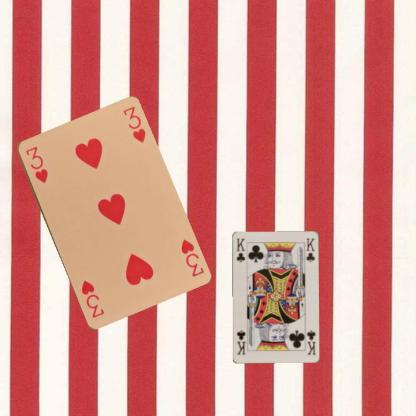3h: (177, 236, 205, 278), (23, 143, 49, 185)
Kc: (304, 328, 316, 356), (234, 236, 246, 263)
